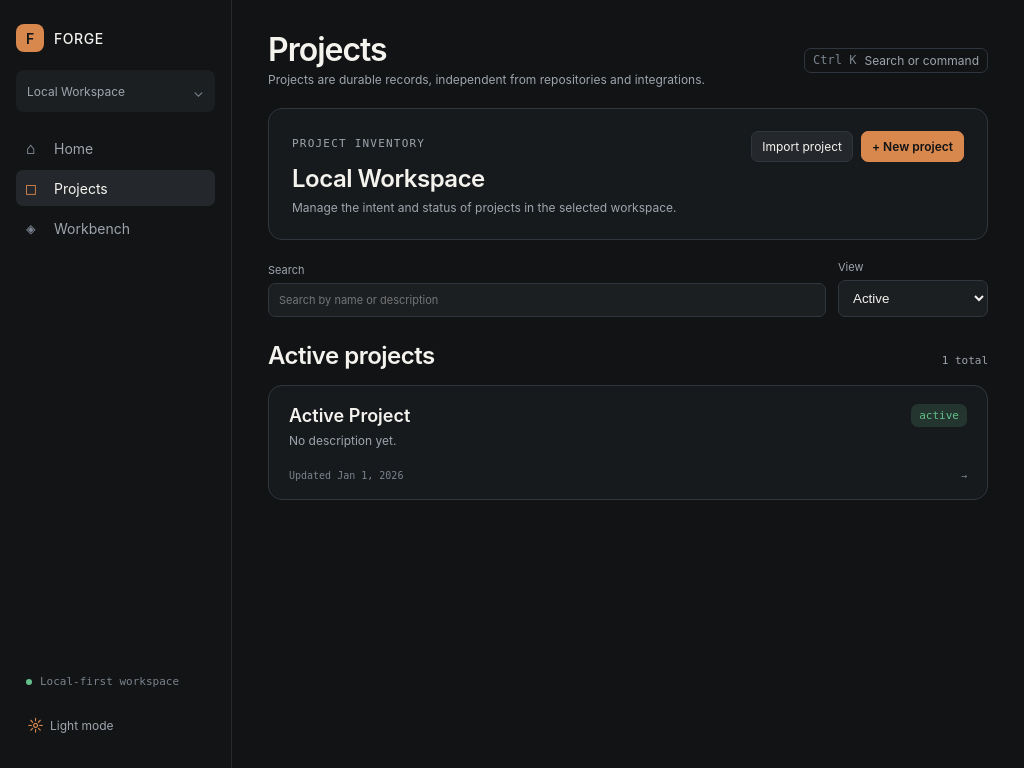
Test: Forge workspace and project shell › filters the project inventory by active and archived status
The image size is (1024, 768).
Expected: the heading "Active Project" is shown, [289,404,410,428]
Select "Archived" in the dropdown named "Project status" at (913, 298), box [838,280,988,317]
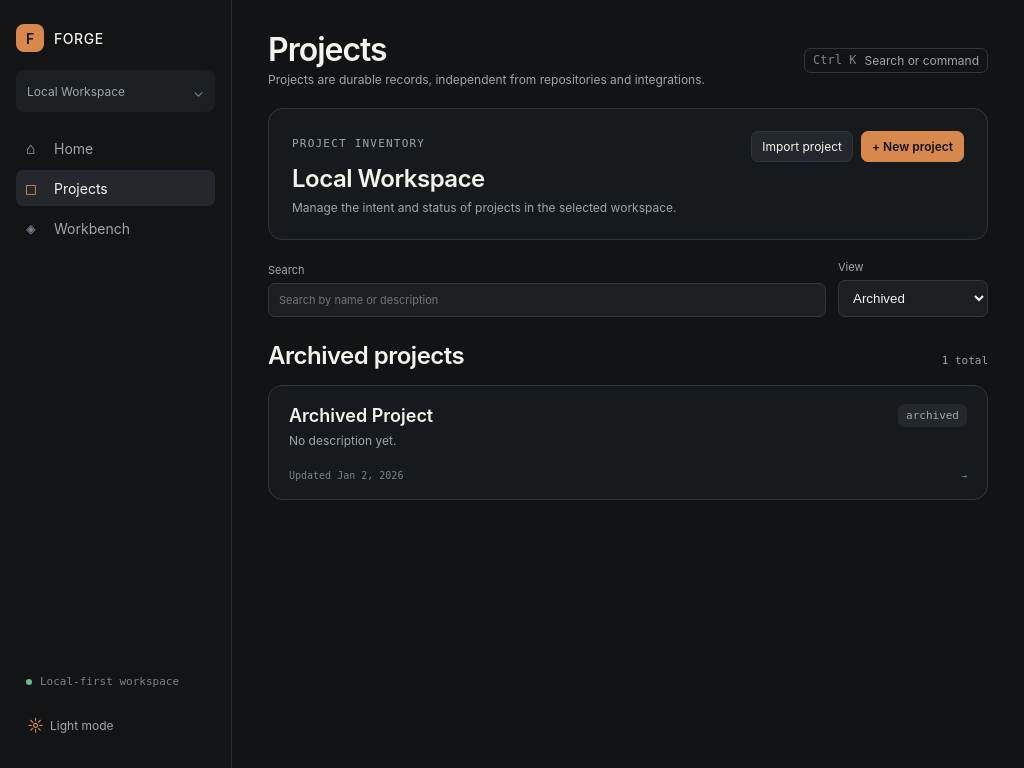
Result: the heading "Archived Project" is shown at [289,404,433,428]
Result: the heading "Active project" is gone
